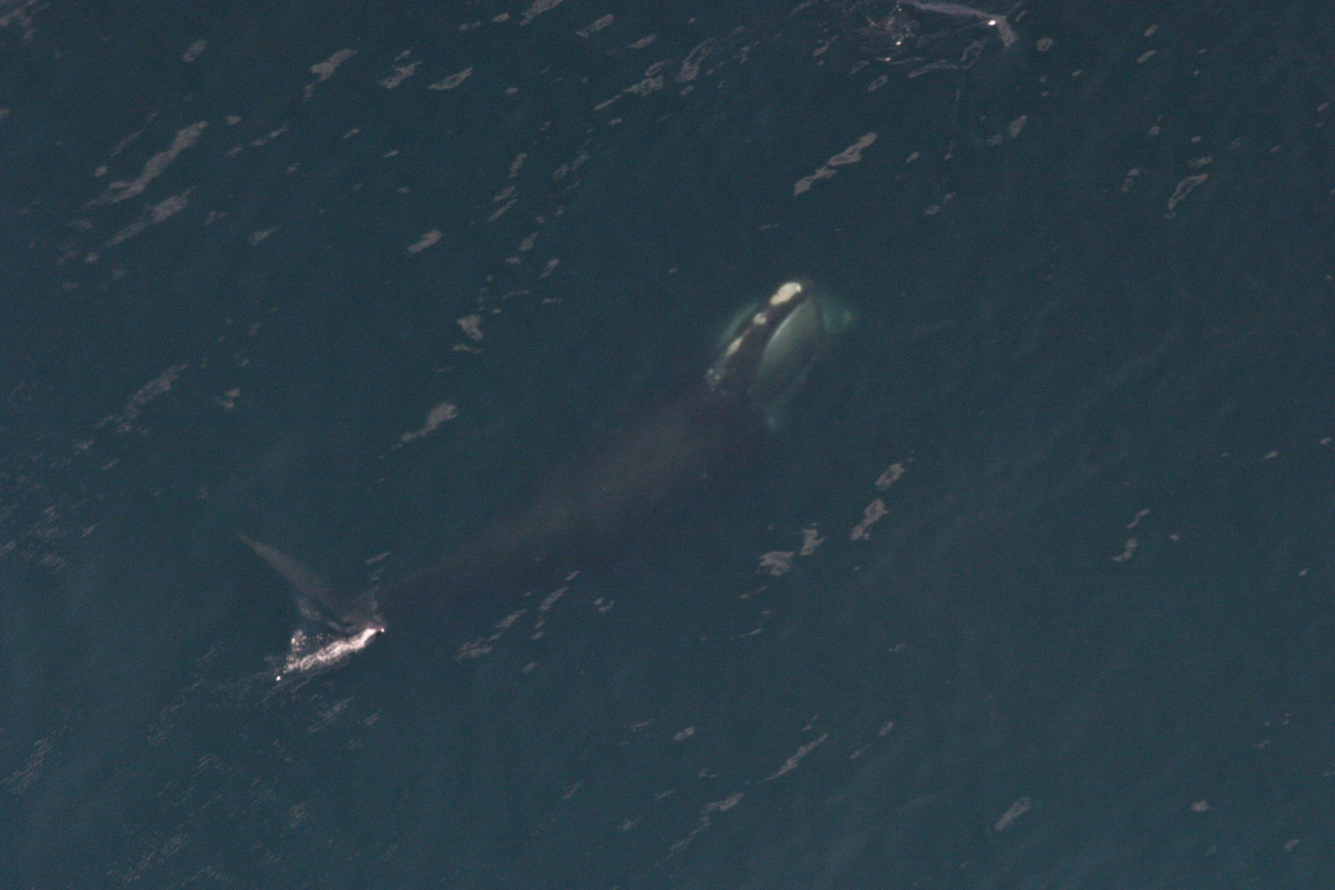whale: (227, 270, 866, 722)
